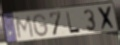3: (83, 8, 97, 32)
7: (49, 11, 63, 37)
G: (32, 13, 50, 38)
L: (65, 10, 83, 34)
M: (14, 15, 35, 40)
X: (97, 5, 117, 32)
